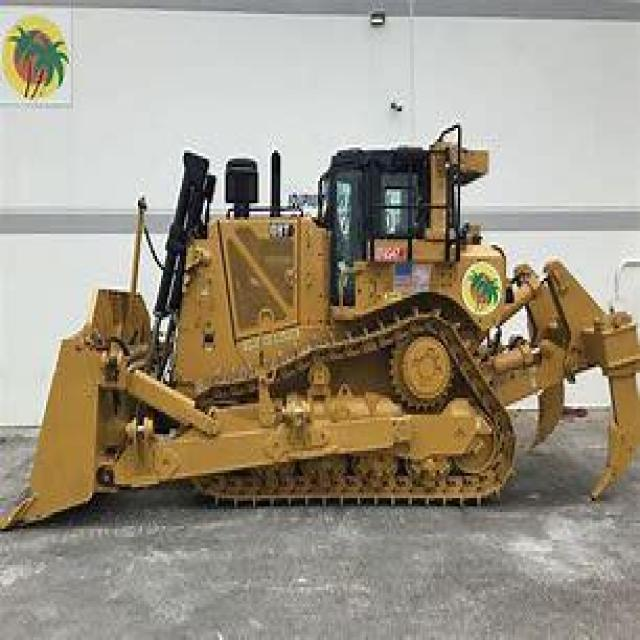bull_dozer/loader/grader: (12, 131, 638, 528)
